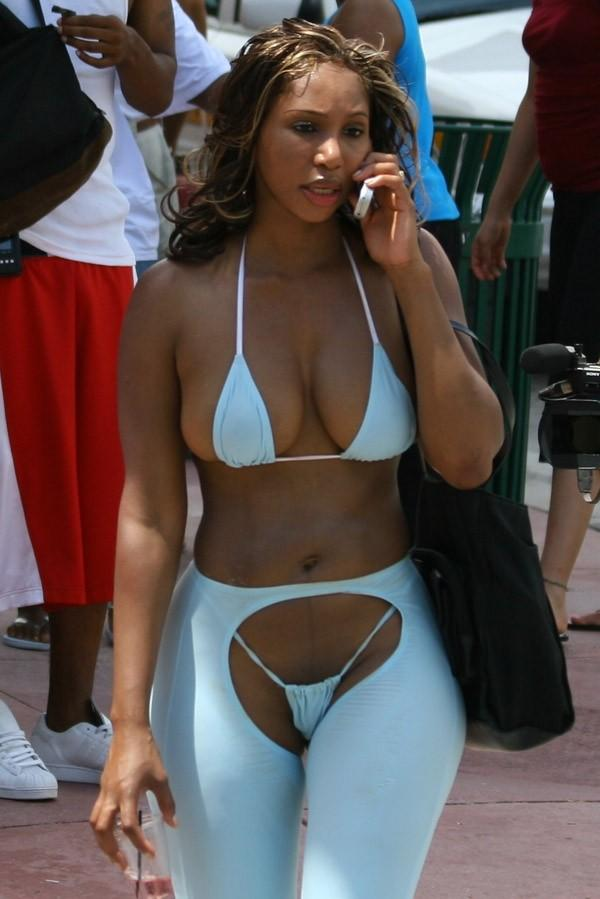person: (88, 15, 504, 899)
